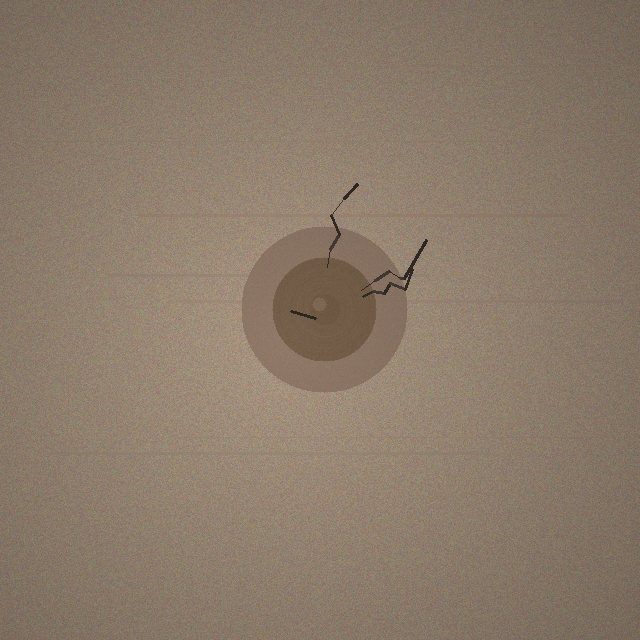crack: (241, 226, 407, 392)
